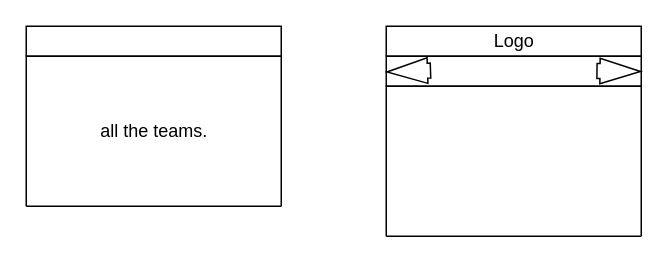
Image size: 668x263. Some labels were removed from this diagram. The centre of each missing label's shape, as x and y in pixels:
"Date" goes at [513,70].
"heading" goes at [153,40].
